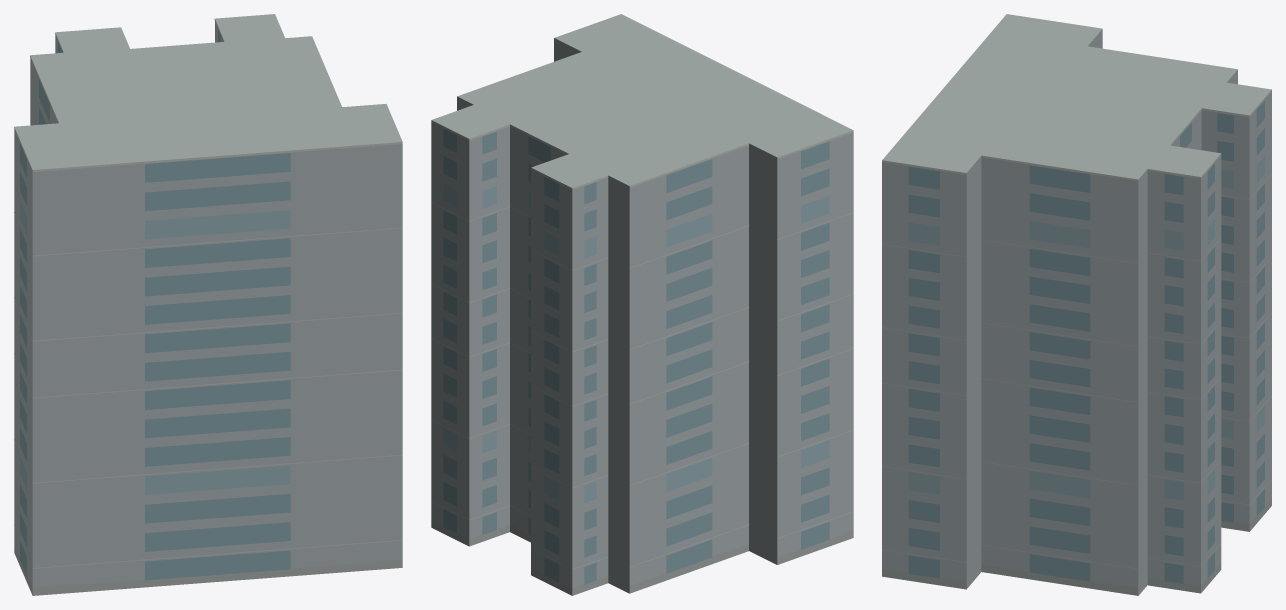
File: residential-405225e0-3987-48f2-a3e6-07f300aa8b60.glb
3 views of the same model, side by side, from view 1: azimuth 30°, elevation 25°; view 2: azimuth 150°, elevation 25°; view 3: azimuth 270°, elevation 25° (orthographic). The views are drawn at different scales.
Parts seen in each view (by area): view 1: residential-405225e0-3987-48f2-a3e6-07f300aa8b60.tmp; view 2: residential-405225e0-3987-48f2-a3e6-07f300aa8b60.tmp; view 3: residential-405225e0-3987-48f2-a3e6-07f300aa8b60.tmp.
Part boxes in pixels (box(x1,y1,x2,y2)): residential-405225e0-3987-48f2-a3e6-07f300aa8b60.tmp: box(14, 14, 402, 595); residential-405225e0-3987-48f2-a3e6-07f300aa8b60.tmp: box(431, 14, 853, 595); residential-405225e0-3987-48f2-a3e6-07f300aa8b60.tmp: box(882, 14, 1271, 595).
Bounding box in the file's own units: 45.19 × 53 × 44.98.
